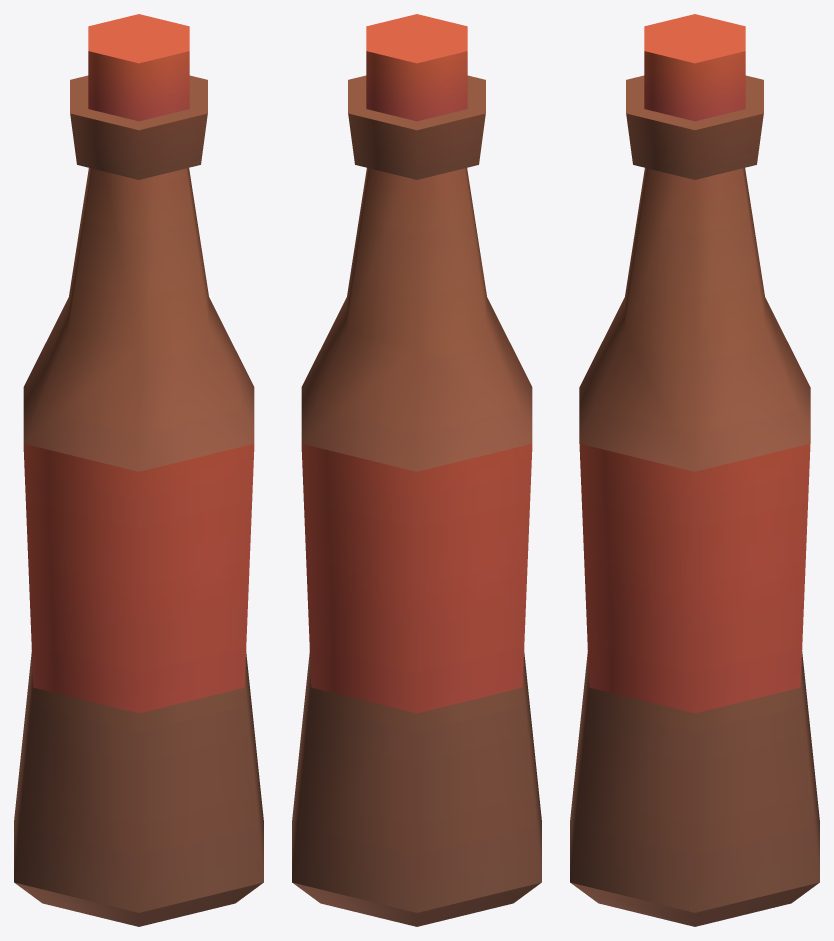
The model's file is soda-bottle.glb.
3 renders of one model, left to right at view 1: azimuth 30°, elevation 25°; view 2: azimuth 150°, elevation 25°; view 3: azimuth 270°, elevation 25°, orthographic.
Visible parts, largest first — view 1: soda-bottle; view 2: soda-bottle; view 3: soda-bottle.
Boxes of the visible parts, x1=… form: soda-bottle: x1=14, y1=14, x2=263, y2=926; soda-bottle: x1=292, y1=14, x2=541, y2=926; soda-bottle: x1=570, y1=14, x2=819, y2=926.
Bounding box in the file's own units: 0.1805 × 0.5804 × 0.1563.
1 material, 1 textured.
